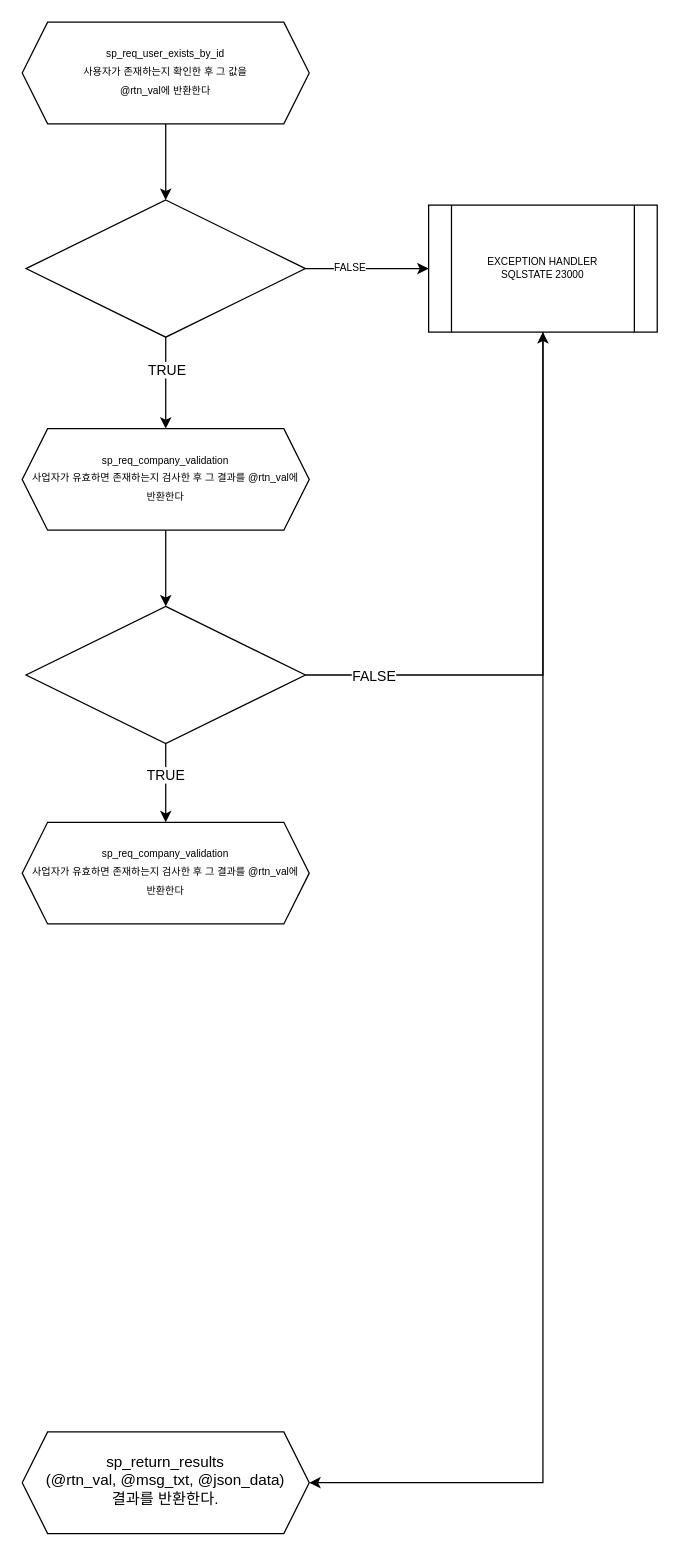
The diagram is 679 pixels wide and 1556 high, and some of its shapes have lost their labels. Here are the shapes that lost their labels. From the top down, the centre of each, then its label:
the point at 165,268: 사용자가 존재하는가? @rtn_val = 0
the point at 165,674: 사업자가 유효한가? @rtn_val = 0
